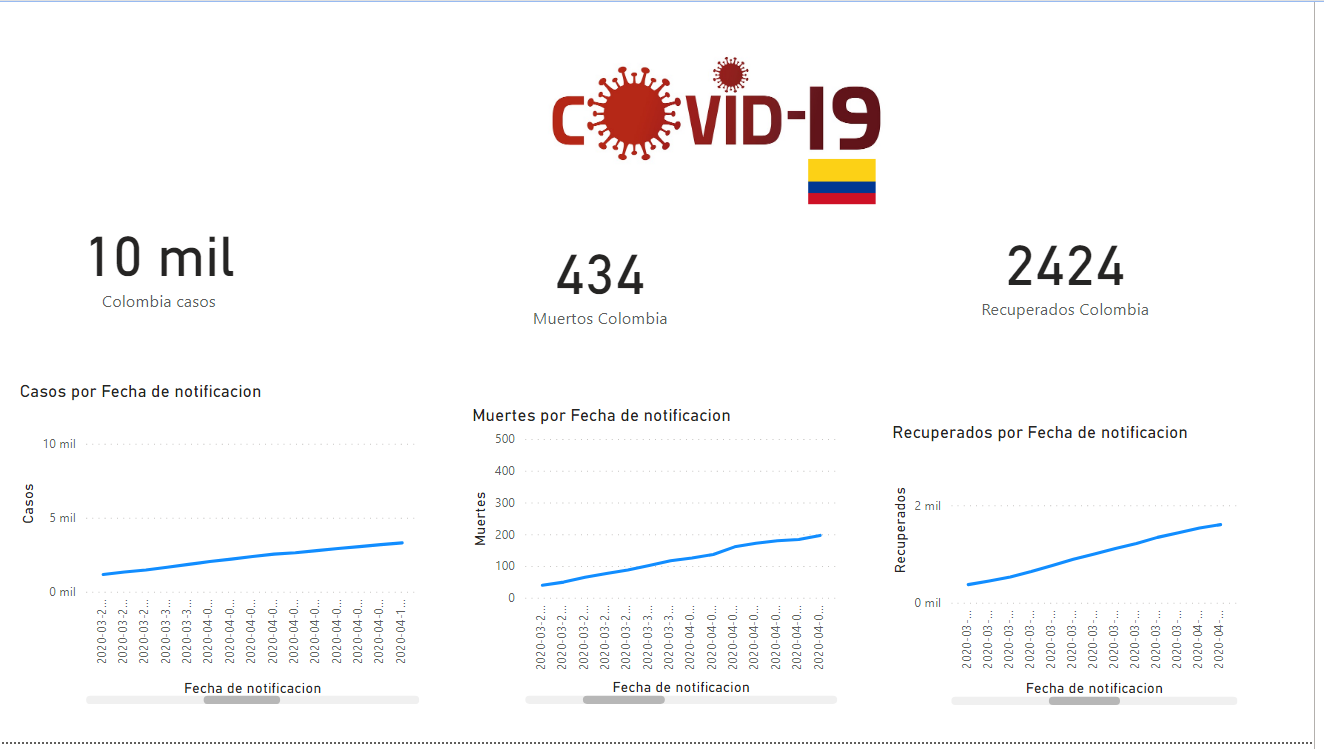

What the dashboard file says about the page in this screenshot:
{"tool":"powerbi","page":{"name":"Colombia","canvas":[1280,720],"ordinal":4},"visuals":[{"type":"card","fields":{"Values":["Colombia.Colombia casos"]},"box":[17,111.8,280.8,279.6],"z":0},{"type":"card","fields":{"Values":["Colombia.Muertos Colombia"]},"box":[446.1,128.9,280.8,279.6],"z":1000},{"type":"card","fields":{"Values":["Colombia.Recuperados Colombia"]},"box":[865.5,151.9,346.4,216.4],"z":2000},{"type":"lineChart","fields":{"Category":["Colombia por dia.Fecha de notificaciÃ³n"],"Y":["Sum(Colombia por dia.cumsum)"]},"box":[17,368.3,398.7,319.7],"z":3000},{"type":"lineChart","fields":{"Category":["Colombia muertes por dia.Fecha de notificaciÃ³n"],"Y":["Sum(Colombia muertes por dia.cumsum)"]},"box":[457.1,391.4,364.7,296.6],"z":4000},{"type":"lineChart","fields":{"Category":["Colombia recuperados por dia.Fecha de notificaciÃ³n"],"Y":["Sum(Colombia recuperados por dia.cumsum)"]},"box":[865,409,346,280],"z":5000},{"type":"image","box":[320,8.5,755.2,217],"z":6000},{"type":"image","box":[784,142.2,75.4,64.4],"z":7000}]}

Visuals, with their boxes in screenshot pixels (x1, y1, x2, y2), scaled from the page's 1280x720 canvas onto the 1324x749 screenshot:
card - Colombia.Colombia casos: 18:116:308:407
card - Colombia.Muertos Colombia: 461:134:752:425
card - Colombia.Recuperados Colombia: 895:158:1254:383
lineChart - Colombia por dia.Fecha de notificaciÃ³n x Sum(Colombia por dia.cumsum): 18:383:430:716
lineChart - Colombia muertes por dia.Fecha de notificaciÃ³n x Sum(Colombia muertes por dia.cumsum): 473:407:850:716
lineChart - Colombia recuperados por dia.Fecha de notificaciÃ³n x Sum(Colombia recuperados por dia.cumsum): 895:425:1253:717
image: 331:9:1112:235
image: 811:148:889:215
